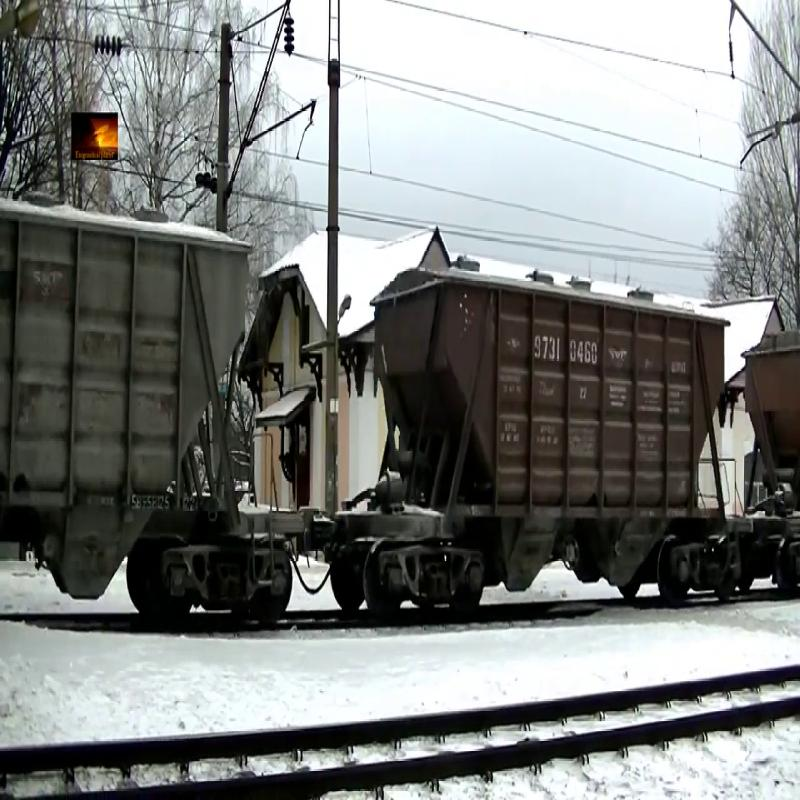train: (329, 259, 734, 615), (1, 207, 310, 621)
